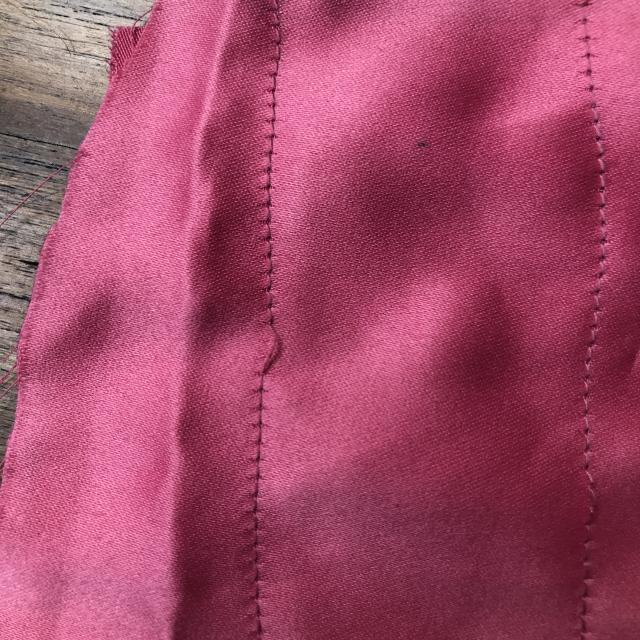skip: (239, 300, 297, 386)
